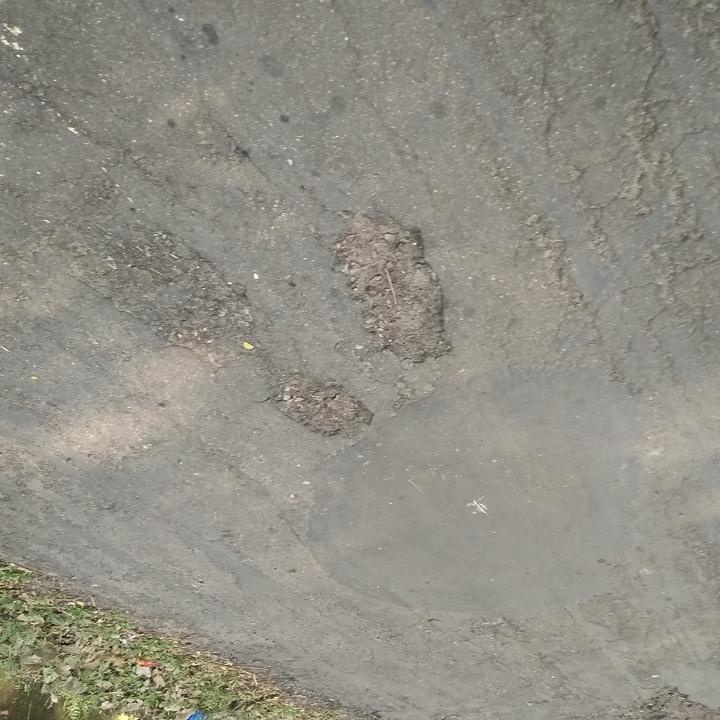pothole: (65, 225, 260, 368), (328, 204, 451, 369), (262, 364, 377, 440), (606, 684, 720, 719)
